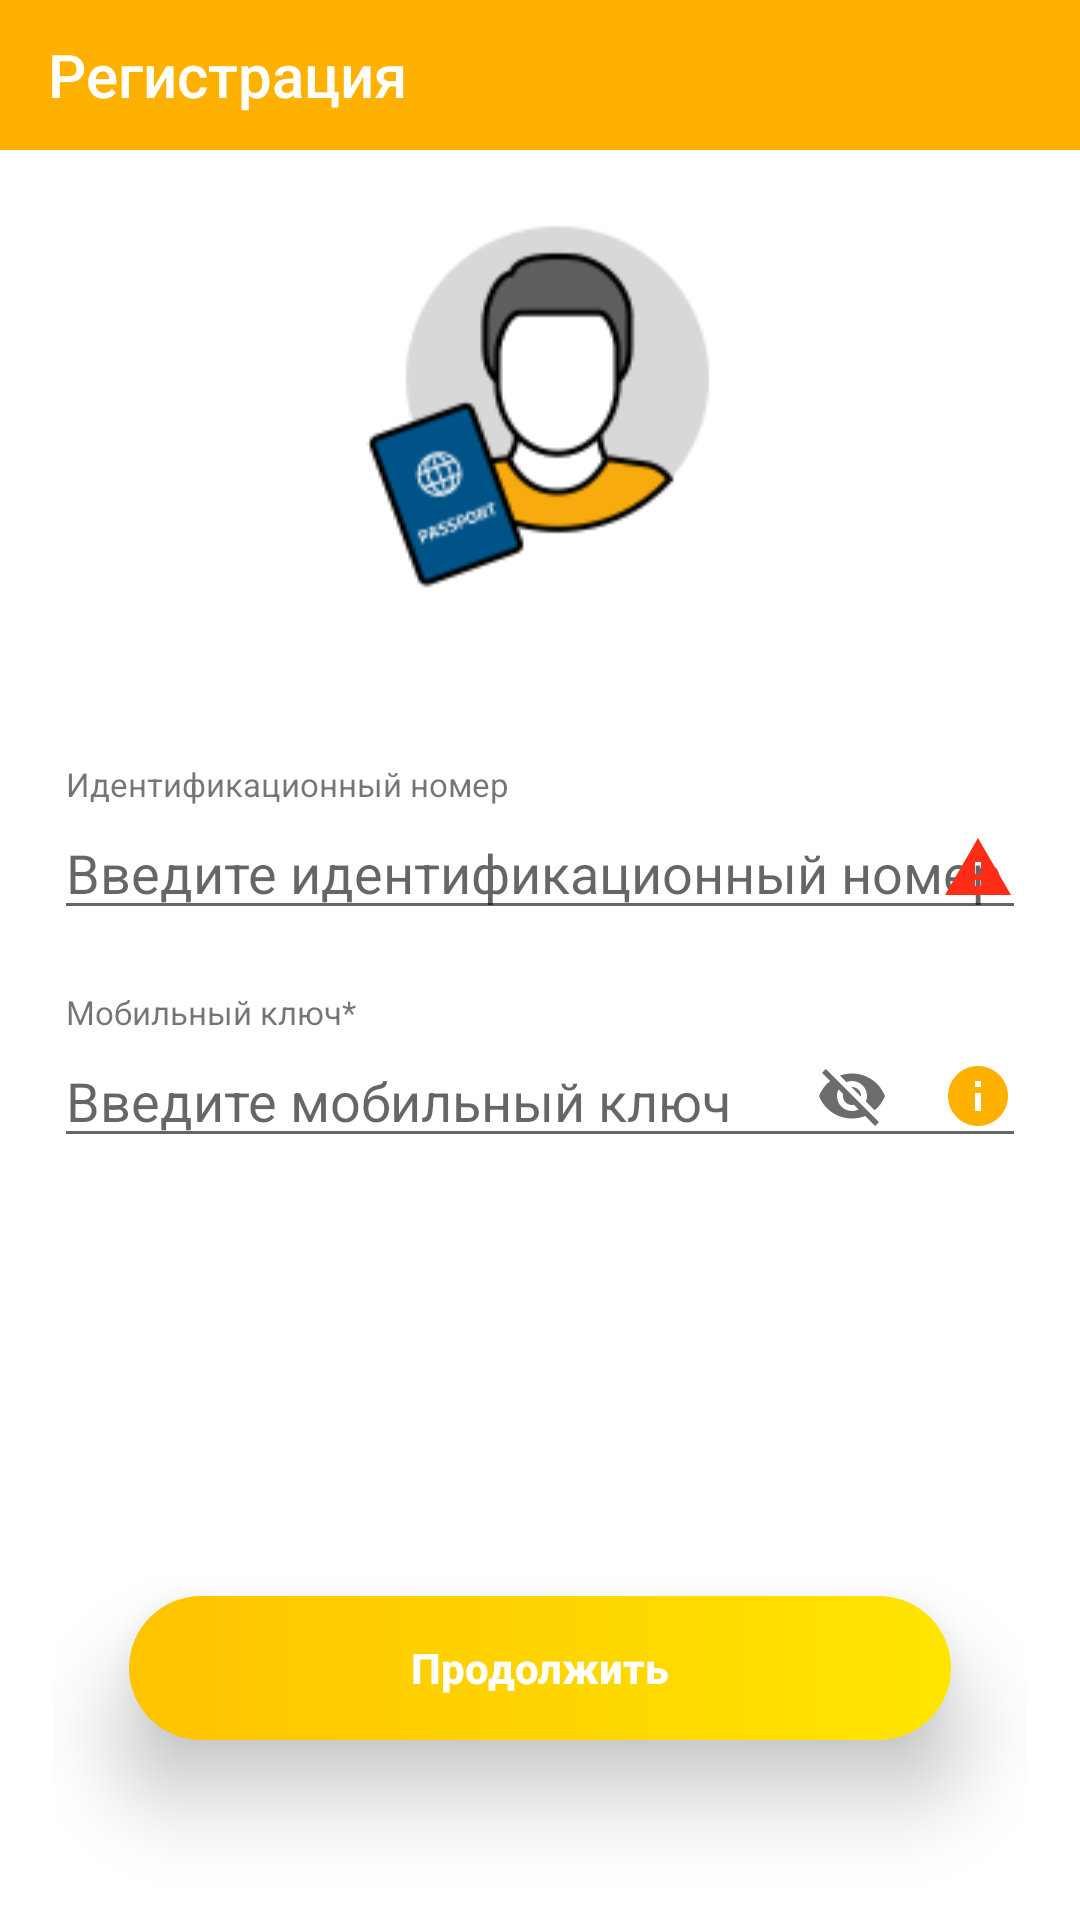

Where to tap for icons on this 1080×1920 app screen, as point (x, y):
ident main: point (538, 407)
info: point (978, 1096)
visibility off: point (852, 1097)
warning: point (978, 872)
